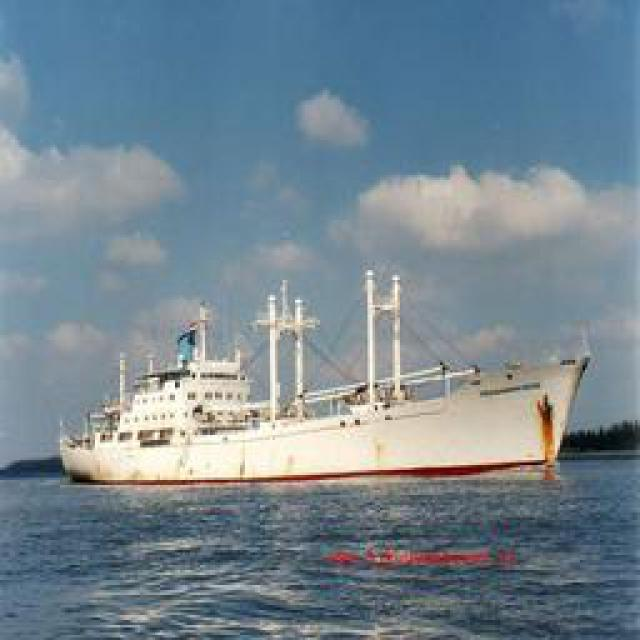Ship: (55, 279, 588, 494)
